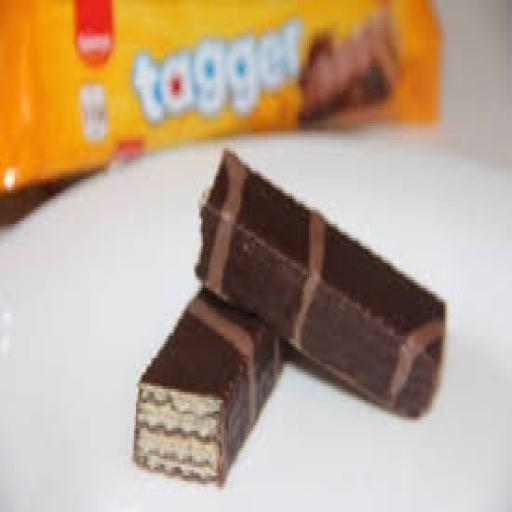tagger: (0, 0, 482, 178)
